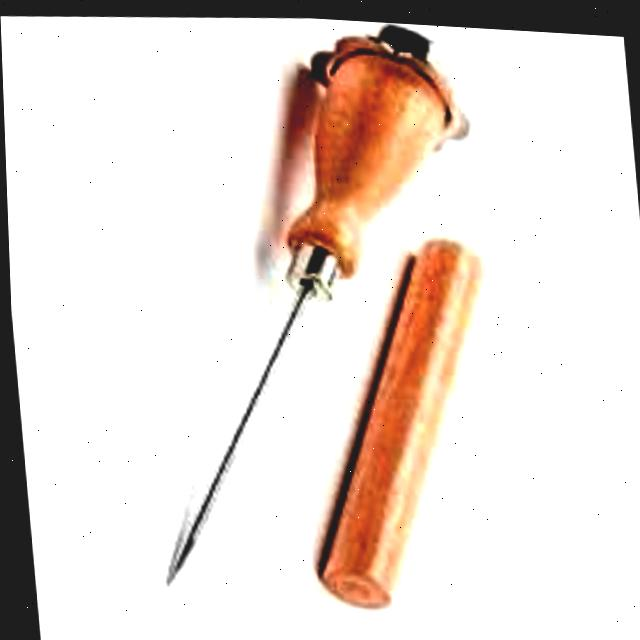ice pick: (70, 3, 519, 630)
